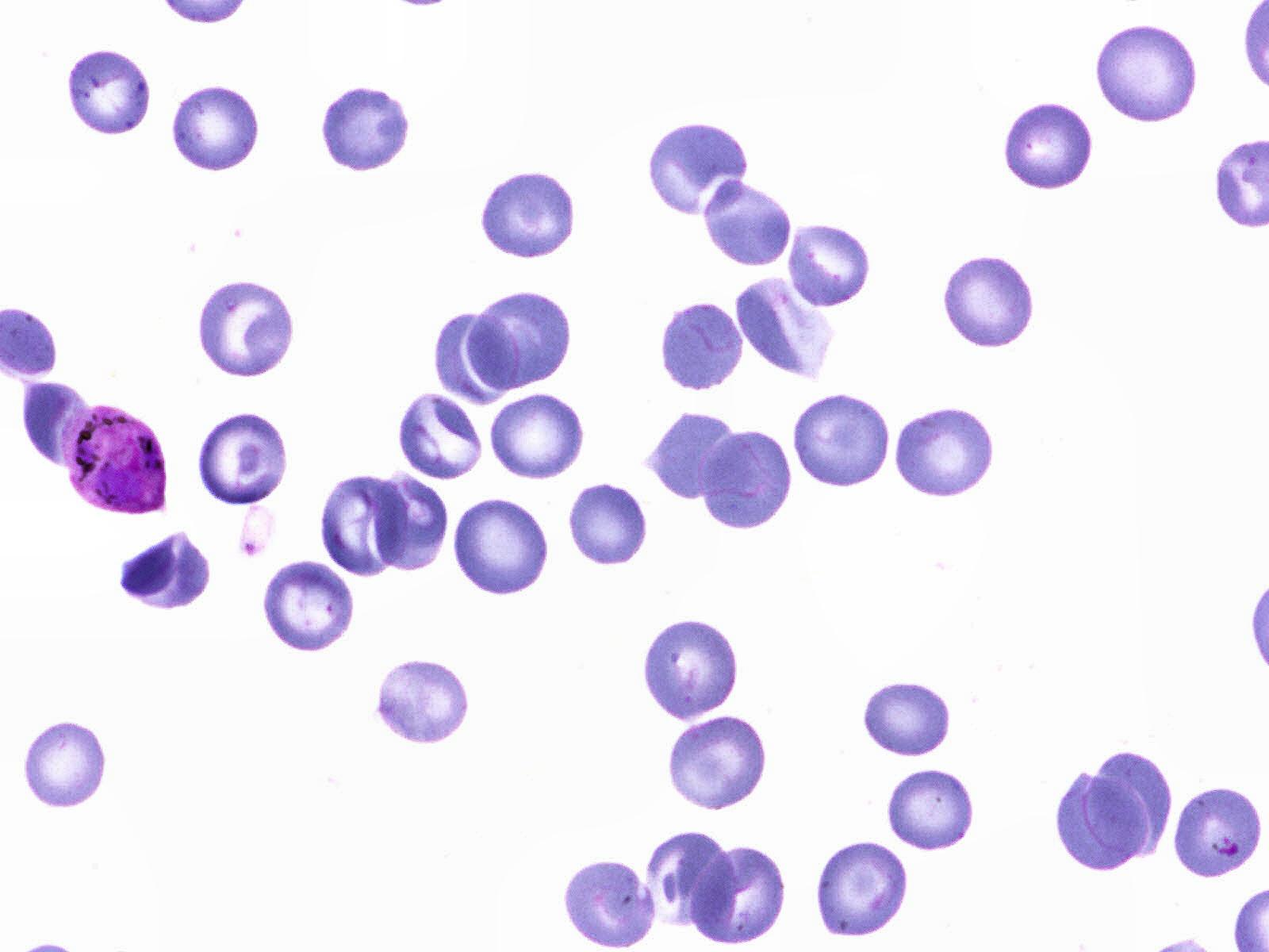Infected: (58, 405, 173, 517)
Uninfected: (1092, 23, 1202, 128), (466, 289, 574, 389), (195, 278, 294, 381), (812, 839, 911, 940), (689, 843, 786, 946), (891, 406, 996, 501), (736, 271, 829, 378), (644, 617, 743, 717), (700, 429, 790, 538), (1002, 98, 1099, 195), (1082, 757, 1171, 862), (793, 395, 891, 490), (1057, 769, 1150, 869), (700, 175, 796, 271), (648, 121, 750, 211), (320, 476, 408, 580), (478, 167, 574, 262), (665, 715, 765, 806), (485, 393, 587, 482), (563, 855, 658, 950), (455, 501, 549, 595), (262, 562, 357, 655), (198, 413, 290, 509), (167, 82, 264, 173), (944, 252, 1034, 350), (650, 411, 748, 499), (320, 84, 413, 172), (119, 528, 213, 615), (374, 661, 471, 745), (65, 46, 155, 135), (784, 221, 872, 312), (660, 300, 746, 393), (646, 831, 730, 926), (397, 392, 485, 481), (370, 476, 450, 573), (21, 719, 107, 809), (435, 313, 519, 405), (1177, 792, 1261, 879), (888, 770, 978, 851), (565, 481, 651, 565), (865, 678, 953, 756)
